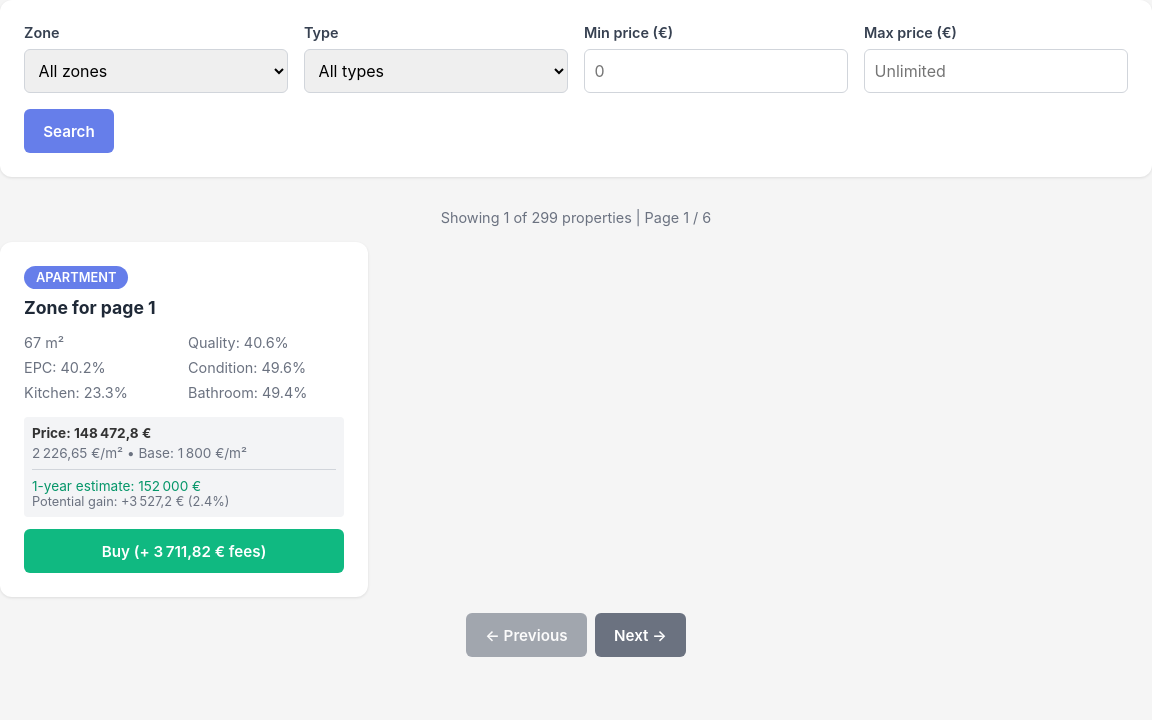
Test case: paging through the market › shows page 2 after the user clicks Next
Expected: the text "Zone for page 1" is shown, [24, 297, 156, 318]
Click the button "Next →".
click(640, 635)  # box [595, 613, 686, 657]
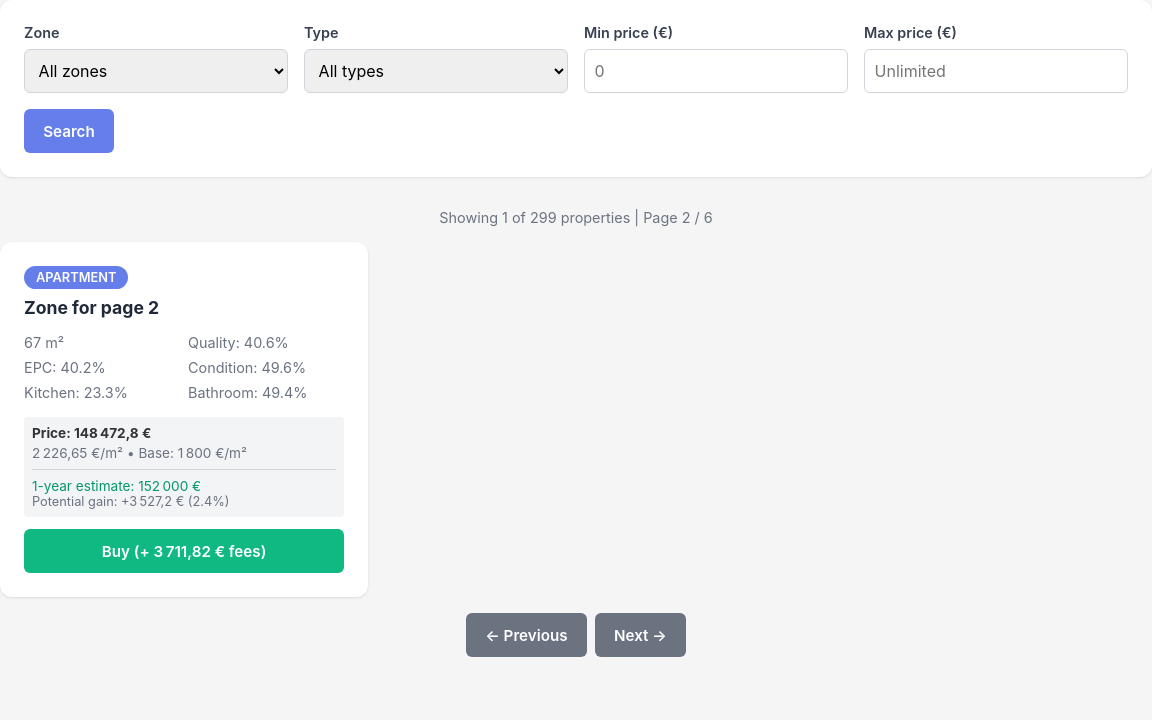
Now the text "Zone for page 2" is shown, box [24, 297, 159, 318]
Now the text "Showing 1 of 299 properties | Page 2 / 6" is shown, box [439, 209, 713, 226]
